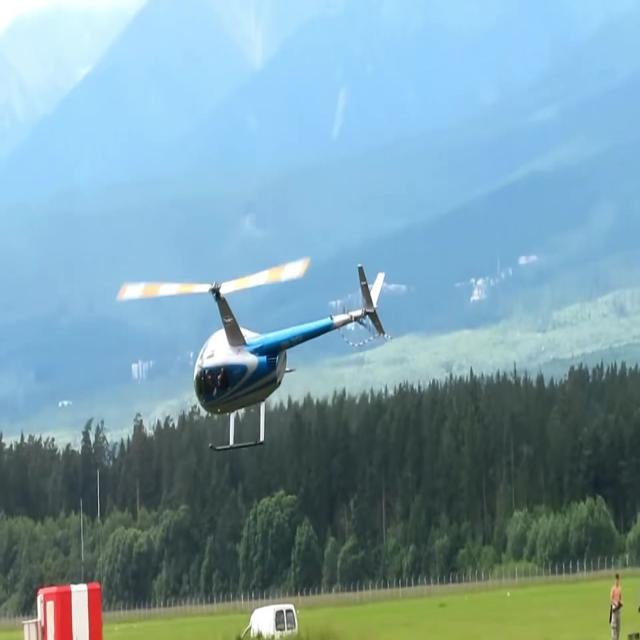CIV_HELO: (192, 260, 387, 454)
